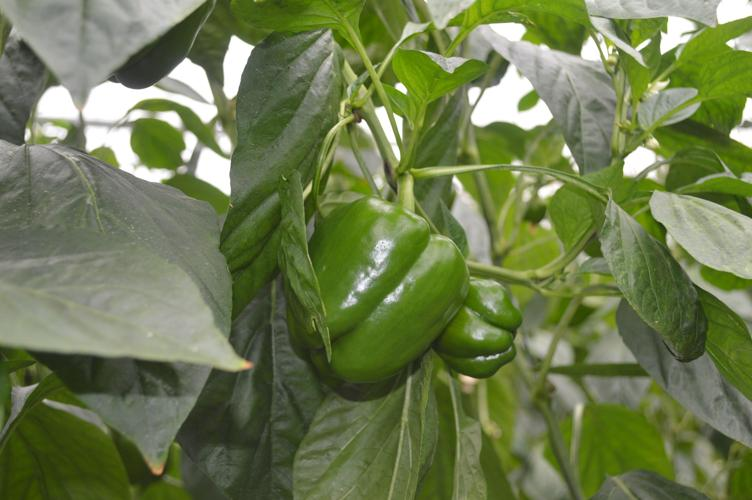BellPepper: (272, 199, 458, 403), (430, 265, 527, 384)
